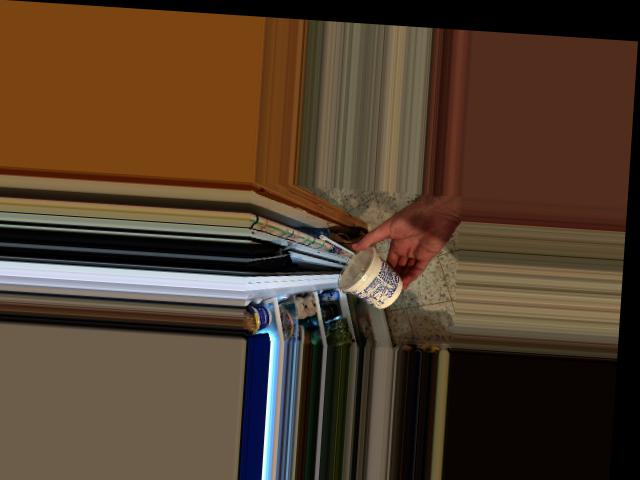cotage: (334, 245, 395, 307)
